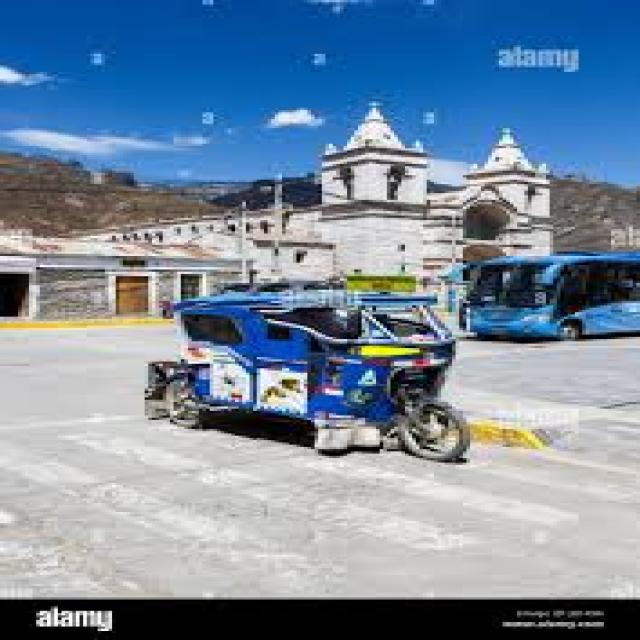bodaboda: (128, 280, 494, 502)
bus: (510, 232, 640, 378)
